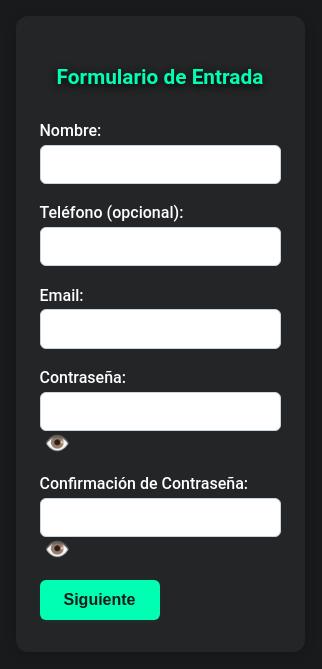
Test case: en el FormularioEntrada › avanza al paso 2 si los datos del paso 1 son válidos
Type "Juan" into the field labelled "Nombre:" at (160, 165), box top-left (40, 145), bottom-right (280, 184)
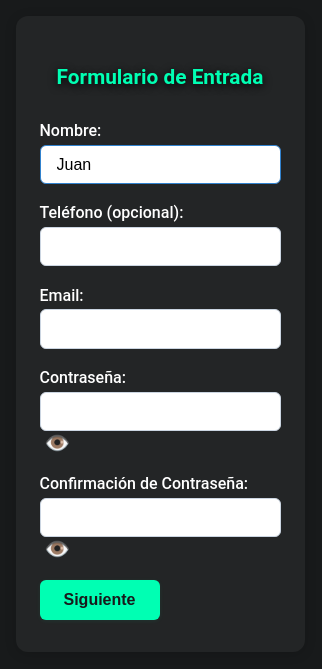
Type "juan@mail.com" into the field labelled "Email:" at (160, 329), box top-left (40, 309), bottom-right (280, 349)
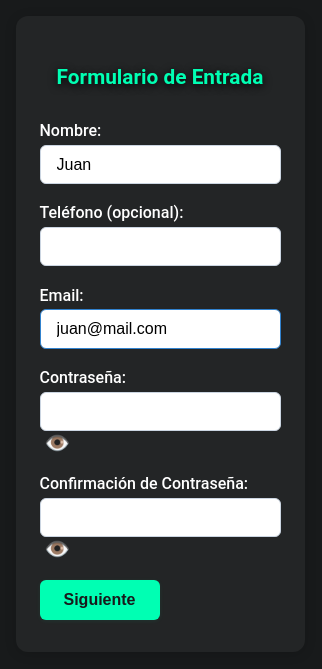
Type "abcdef" into the password field labelled "Contraseña:" at (160, 411), box top-left (40, 392), bottom-right (280, 431)
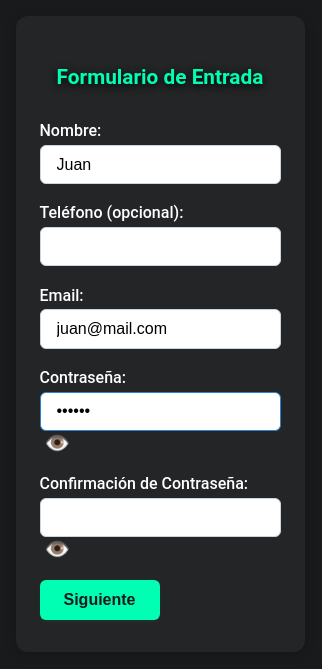
Type "abcdef" into the password field labelled "Confirmación de Contraseña:" at (160, 517), box top-left (40, 498), bottom-right (280, 537)
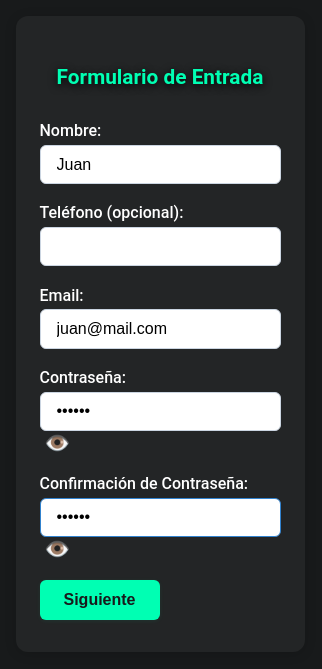
Click the button "Siguiente" at (100, 600), box top-left (40, 580), bottom-right (160, 620)
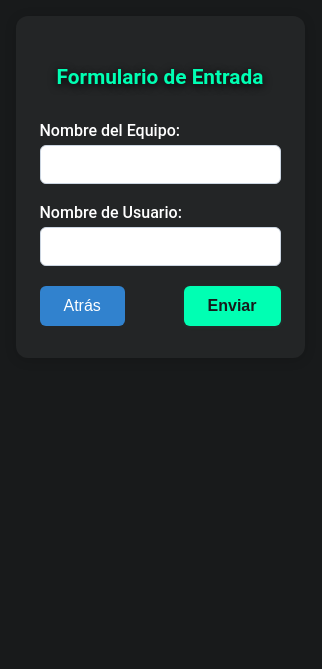
Expected: the field labelled "Nombre de Usuario:" is shown, top-left (40, 227), bottom-right (280, 266)
Expected: the field labelled "Nombre del Equipo:" is shown, top-left (40, 145), bottom-right (280, 184)
Expected: the button "Enviar" is shown, top-left (184, 286), bottom-right (280, 326)
